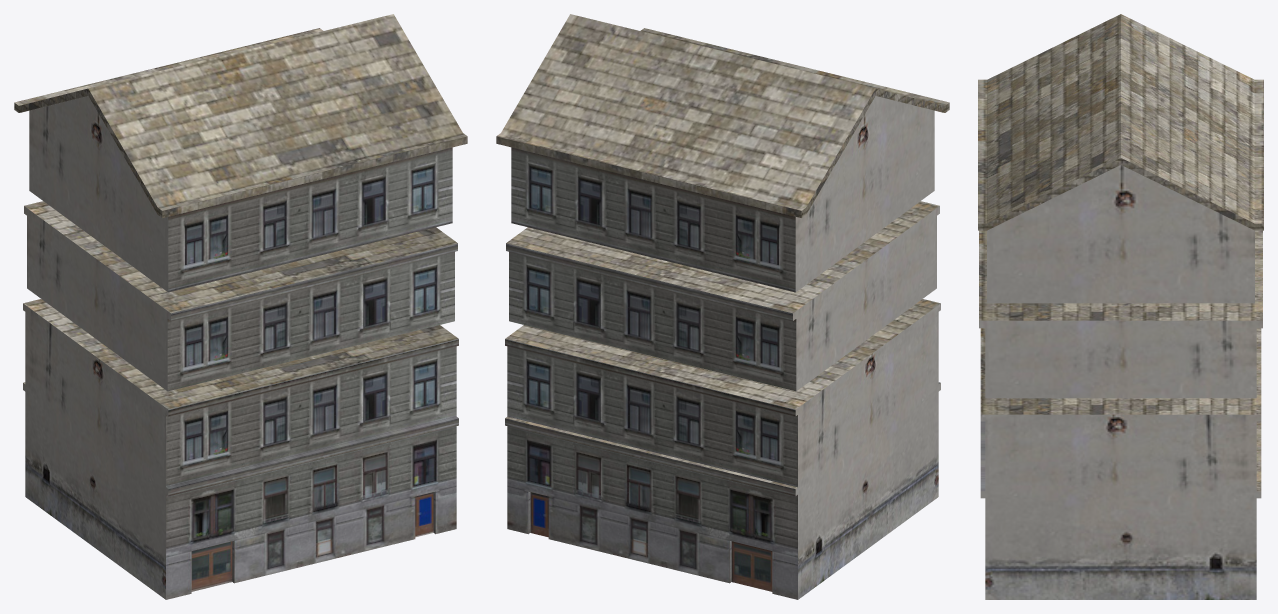
File: Building4.fbx
3 renders of one model, left to right at view 1: azimuth 30°, elevation 25°; view 2: azimuth 150°, elevation 25°; view 3: azimuth 270°, elevation 25°, orthographic. The views are drawn at different scales.
Visible parts, largest first — view 1: Building4_1, Building4_3, Building4_2; view 2: Building4_1, Building4_3, Building4_2; view 3: Building4_3, Building4_1, Building4_2.
Part boxes in pixels (bbox=[...]): Building4_1: bbox=[23, 299, 458, 599]; Building4_3: bbox=[14, 14, 467, 292]; Building4_2: bbox=[24, 201, 457, 391]; Building4_1: bbox=[505, 299, 940, 599]; Building4_3: bbox=[496, 14, 949, 292]; Building4_2: bbox=[506, 201, 939, 391]; Building4_3: bbox=[978, 14, 1263, 303]; Building4_1: bbox=[980, 328, 1261, 599]; Building4_2: bbox=[979, 230, 1262, 398].
Bounding box in the file's own units: 839 × 1212 × 705.
